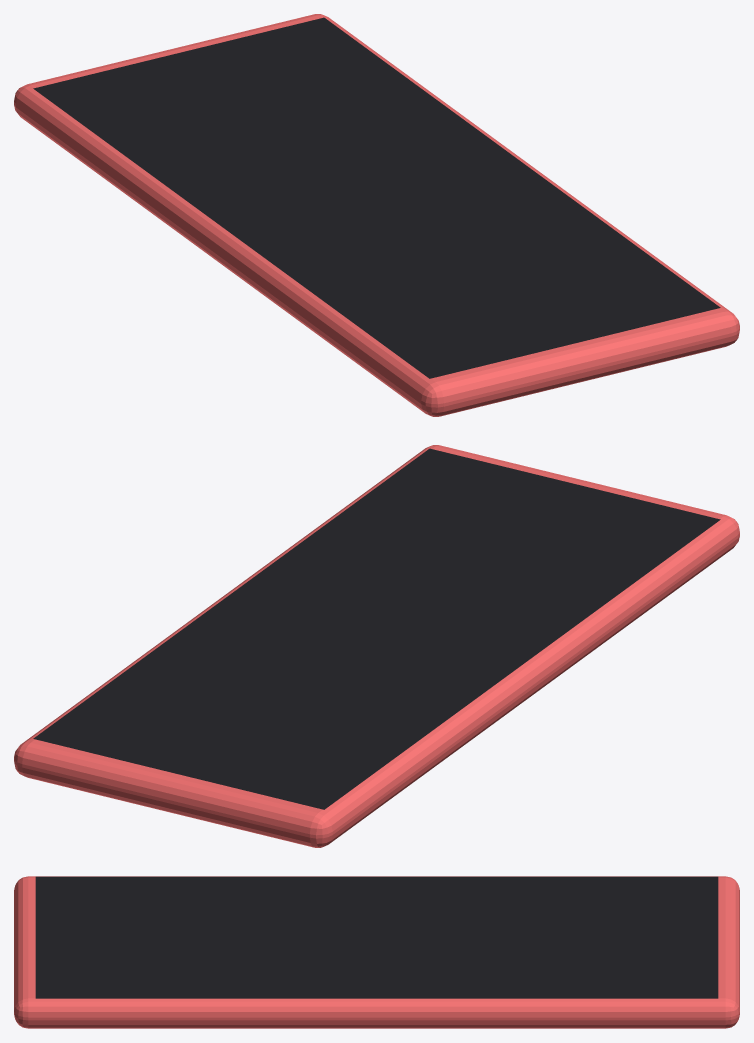
Rendered from motorola-moto-g-model-138-flagship-2024.glb.
3 renders of one model, top to bottom at view 1: azimuth 30°, elevation 25°; view 2: azimuth 150°, elevation 25°; view 3: azimuth 270°, elevation 25°, orthographic. The views are drawn at different scales.
Parts seen in each view (by area): view 1: Phone_Screen, Phone_Body; view 2: Phone_Screen, Phone_Body; view 3: Phone_Screen, Phone_Body.
Part boxes in pixels (left/top/right/bottom): Phone_Screen: left=33, top=17, right=720, bottom=378; Phone_Body: left=14, top=14, right=739, bottom=416; Phone_Screen: left=33, top=448, right=720, bottom=809; Phone_Body: left=14, top=445, right=739, bottom=847; Phone_Screen: left=35, top=876, right=718, bottom=998; Phone_Body: left=14, top=876, right=739, bottom=1028.
Size of the model in its own units: 0.071 by 0.0073 by 0.1639.
